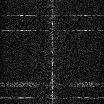wifi: (1, 81, 104, 87), (1, 96, 104, 99), (1, 28, 104, 31), (1, 13, 104, 16)
